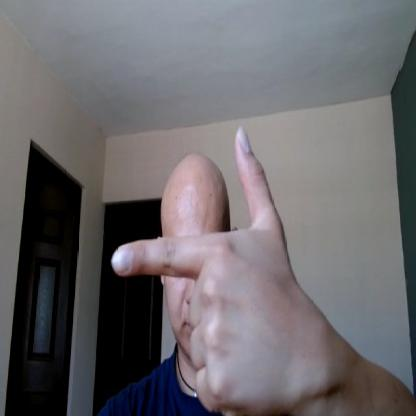G: (110, 124, 292, 415)
